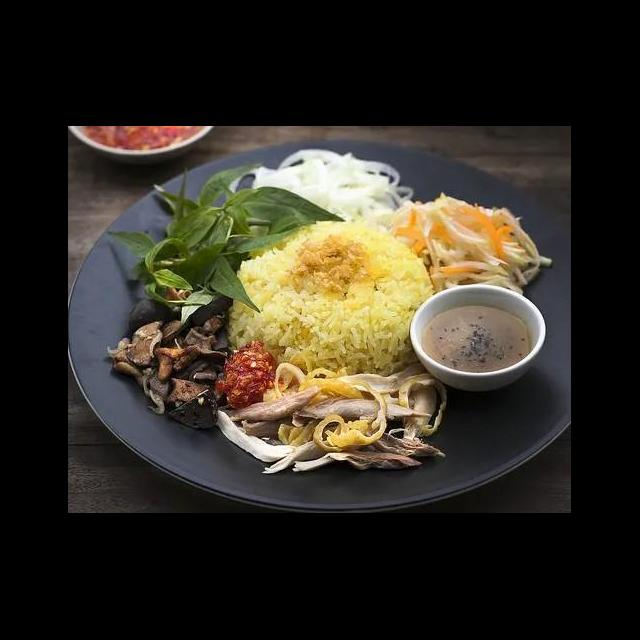com: (225, 218, 438, 382)
com ga: (79, 163, 572, 514)
rau ram: (148, 162, 350, 258), (105, 207, 262, 326)
thit ga: (212, 364, 450, 476)
